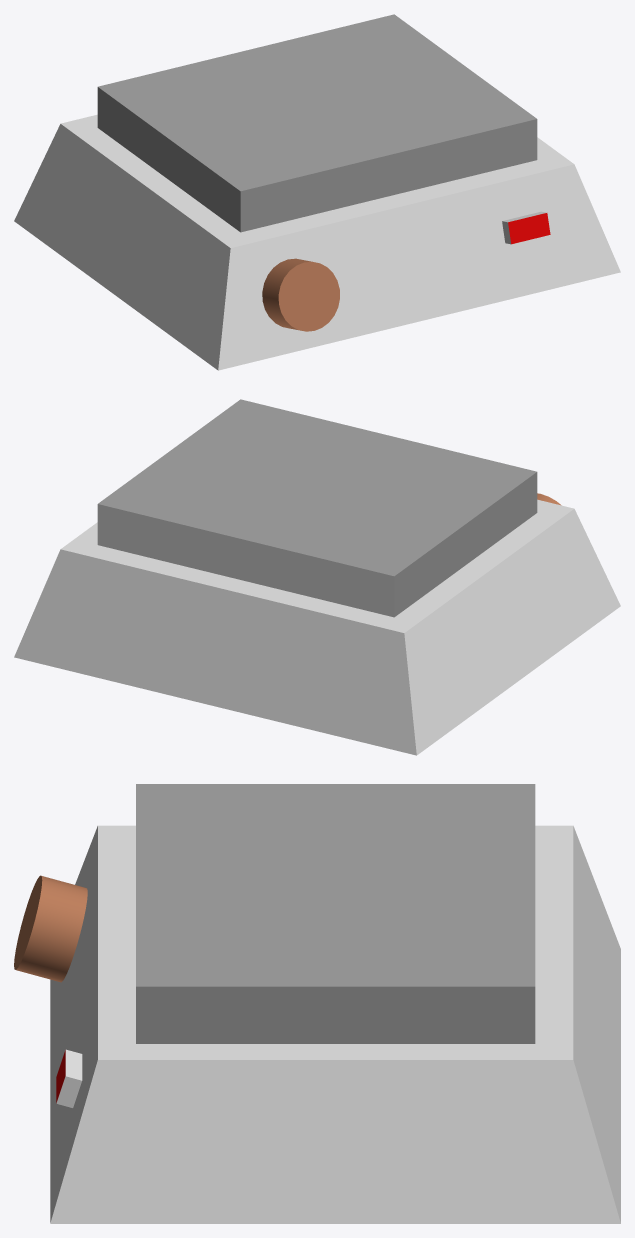
File: hotPlate.fbx
3 views of the same model, one above another, from view 1: azimuth 30°, elevation 25°; view 2: azimuth 150°, elevation 25°; view 3: azimuth 270°, elevation 25° (orthographic). The views are drawn at different scales.
Visible parts, largest first — view 1: hotPlate:polySurface1; view 2: hotPlate:polySurface1; view 3: hotPlate:polySurface1.
Boxes of the visible parts, x1,y1,x2,y2 form: hotPlate:polySurface1: (14,14,620,370); hotPlate:polySurface1: (14,399,620,755); hotPlate:polySurface1: (14,784,620,1223).
Bounding box in the file's own units: 41 × 14 × 38.29.
